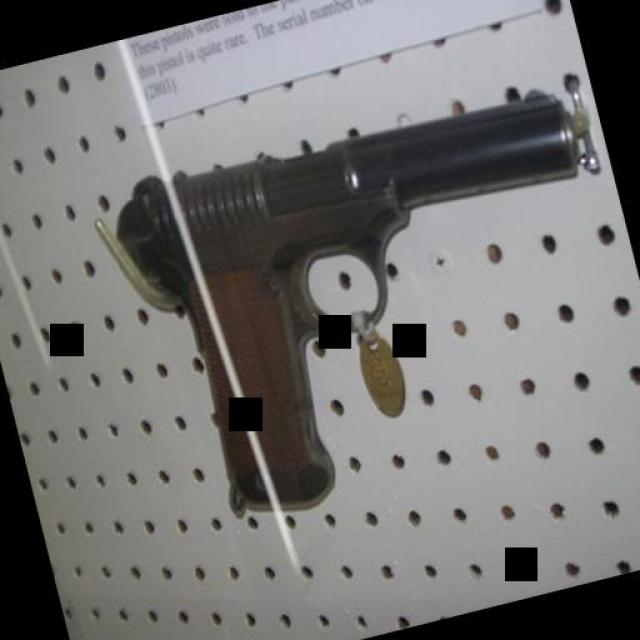gun: (96, 65, 640, 539)
